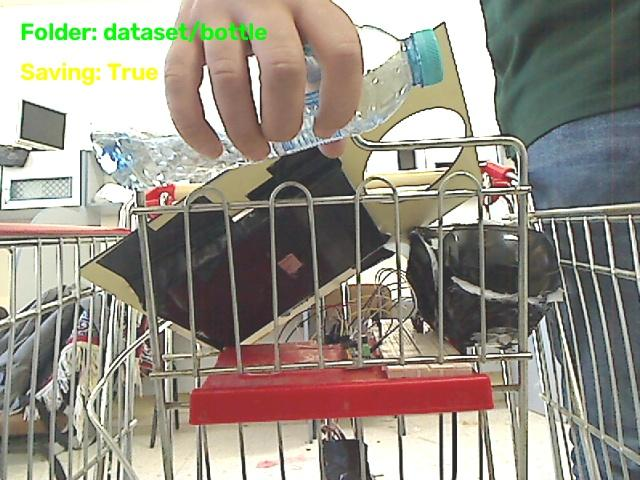Bottle: (266, 26, 446, 158), (91, 130, 254, 188)
can: (241, 2, 304, 148)
